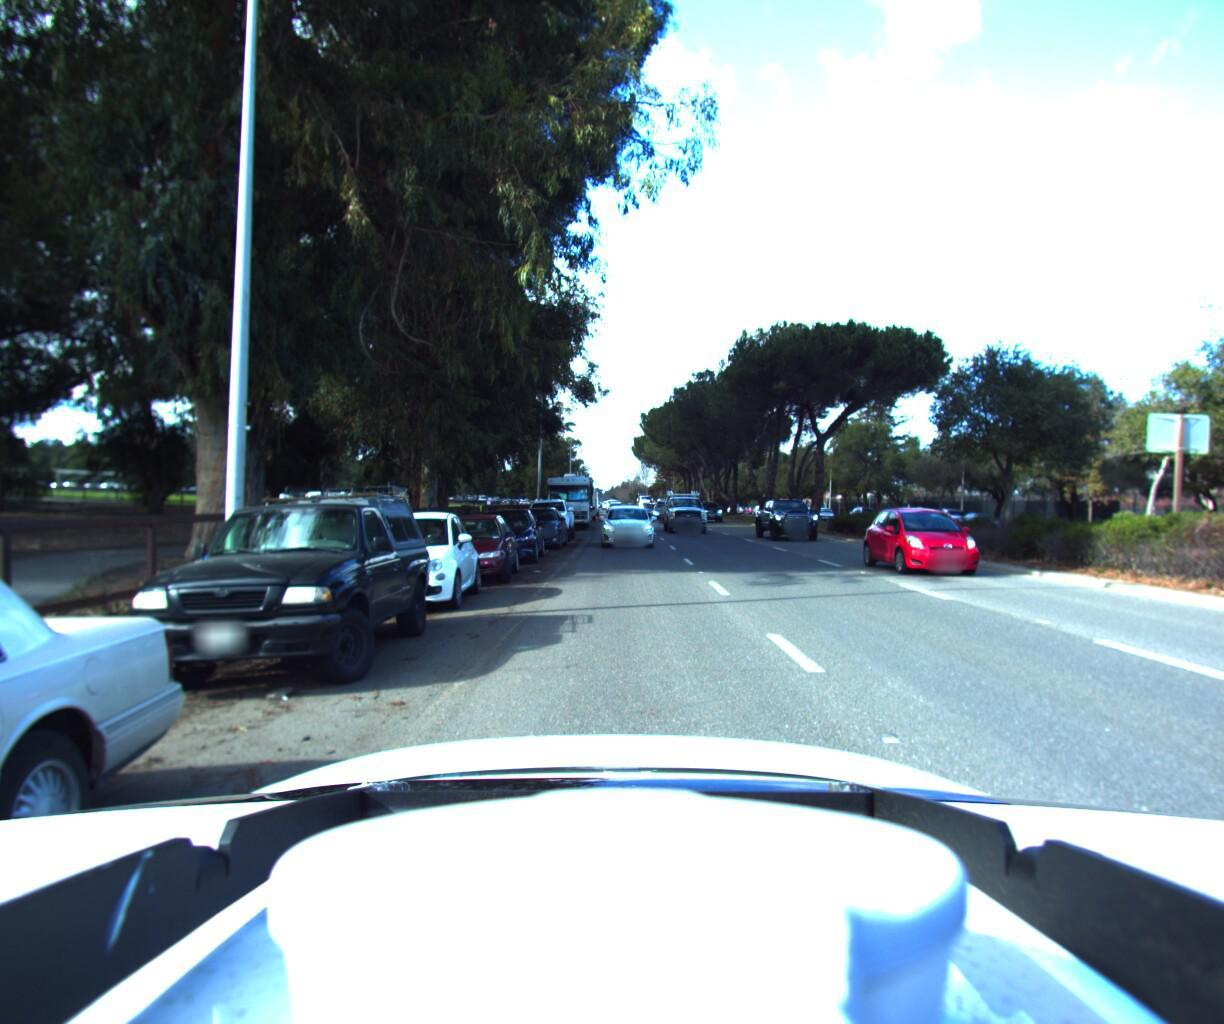car: (101, 466, 440, 719), (333, 511, 487, 618), (877, 502, 1026, 582), (410, 511, 524, 590), (463, 506, 546, 566), (756, 495, 831, 543), (506, 504, 569, 552), (598, 502, 654, 549), (662, 485, 714, 534), (522, 496, 574, 543), (920, 506, 971, 530), (695, 499, 726, 522)
other_vehicle: (543, 473, 592, 532)
